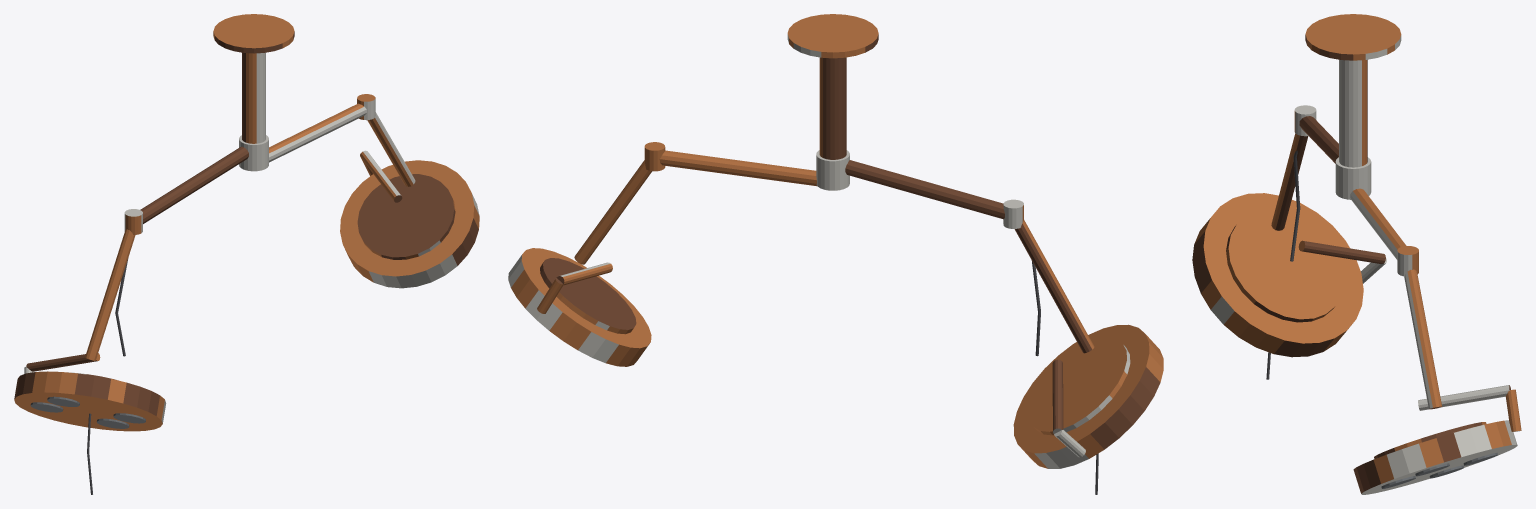
The model's file is operatingRoom_light_v2.fbx.
The picture shows the model from 3 angles, left to right: view 1: azimuth 30°, elevation 25°; view 2: azimuth 150°, elevation 25°; view 3: azimuth 270°, elevation 25°; orthographic projection. The views are drawn at different scales.
Parts seen in each view (by area): view 1: 04_SurgicalLamp_Damaged_Mesh; view 2: 04_SurgicalLamp_Damaged_Mesh; view 3: 04_SurgicalLamp_Damaged_Mesh.
Boxes of the visible parts, <box> form: 04_SurgicalLamp_Damaged_Mesh: <box>14,14,479,494</box>; 04_SurgicalLamp_Damaged_Mesh: <box>508,14,1163,494</box>; 04_SurgicalLamp_Damaged_Mesh: <box>1192,14,1521,494</box>.
Size of the model in its own units: 202 by 148 by 96.15.
